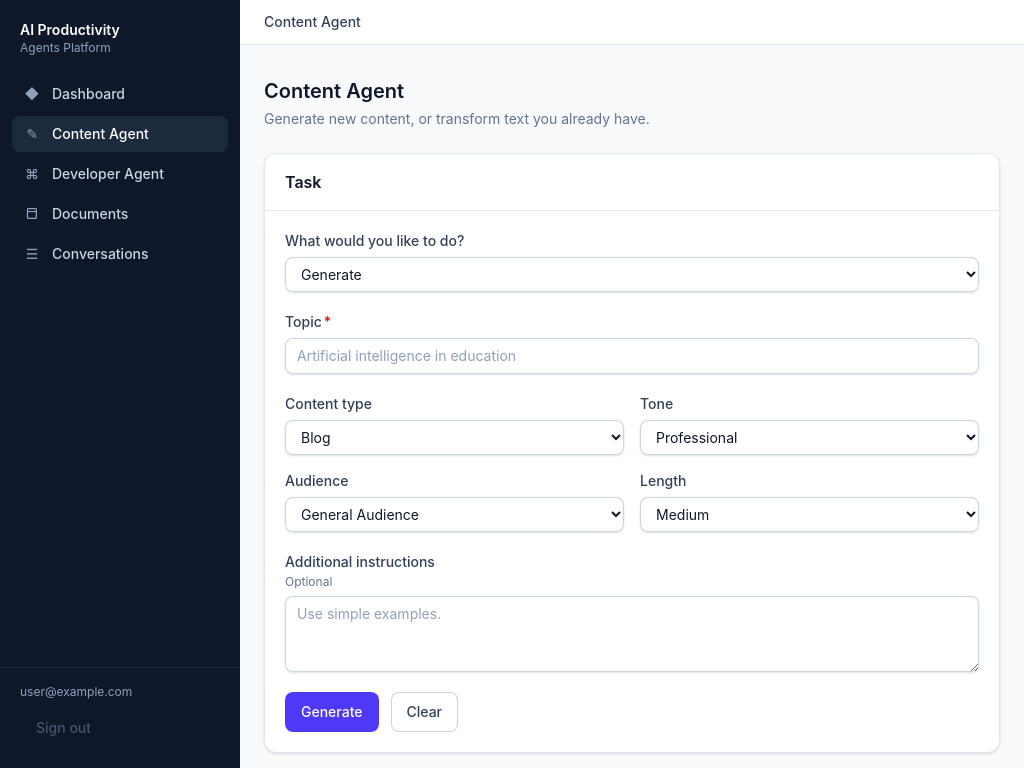
it: 429 handling › shows the limit message when an AI request is refused
Type "AI in education" into the field labelled "Topic*" at (632, 356), box [285, 338, 979, 374]
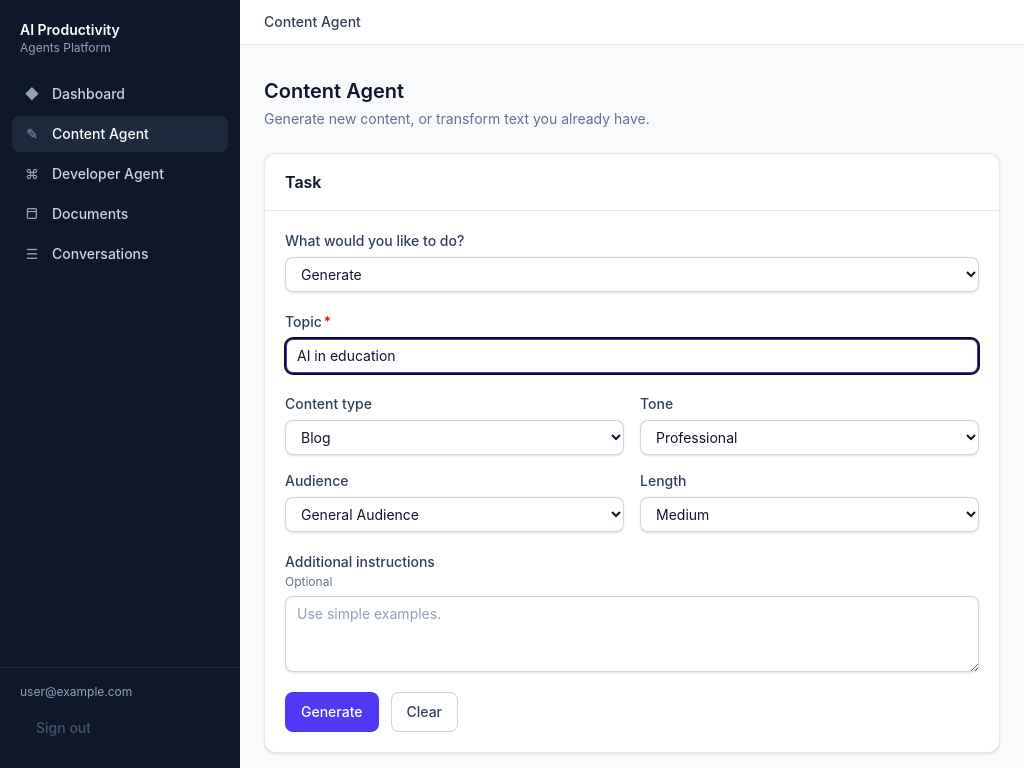
Click the button "Generate" at (332, 712), box [285, 692, 378, 732]
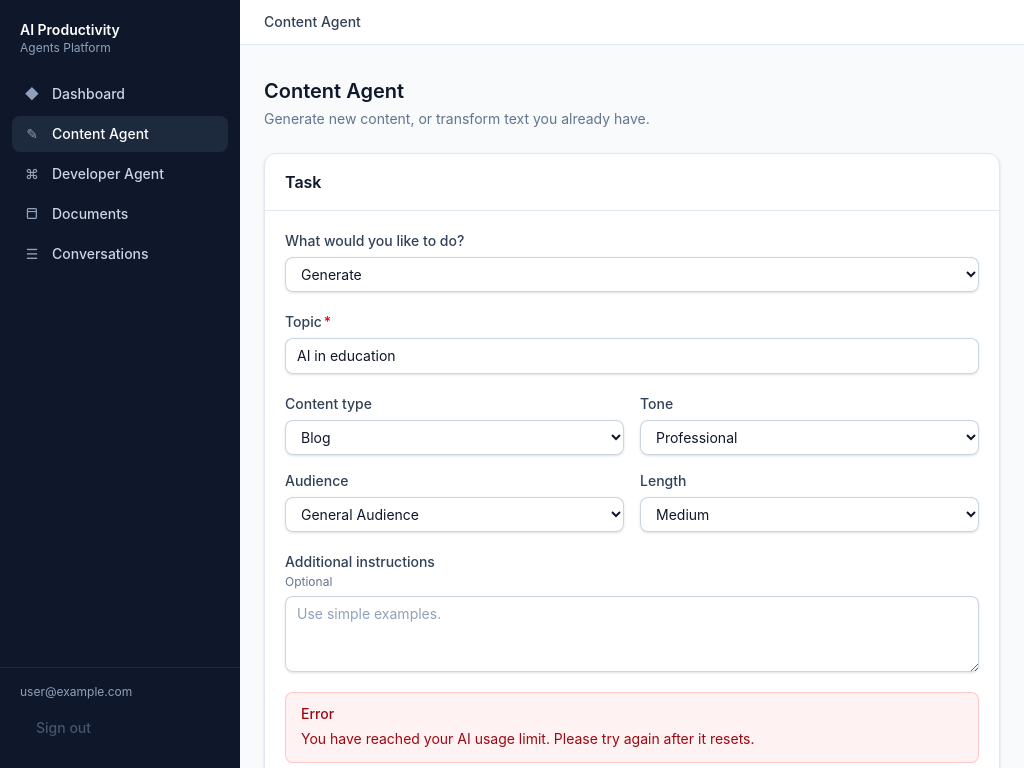
Check: the message shows "AI usage limit", box [301, 730, 754, 747]
